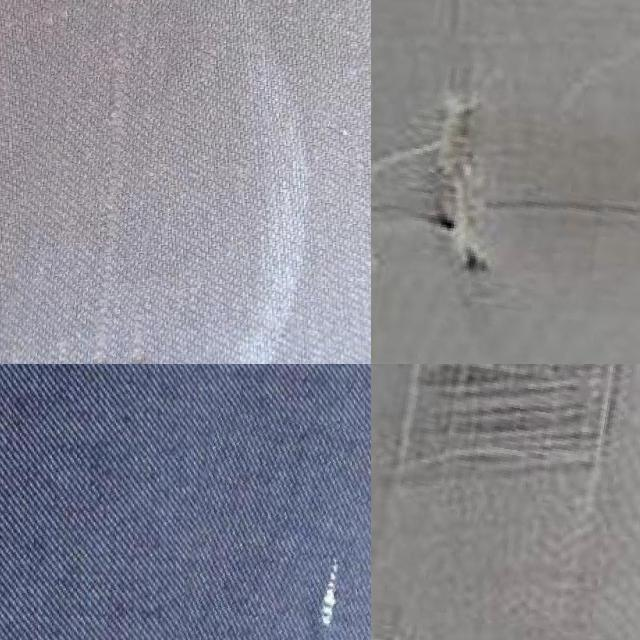stains: (371, 0, 640, 364), (371, 364, 640, 636), (15, 0, 189, 364), (175, 414, 371, 640)
